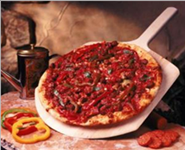sandwich: (36, 40, 163, 126)
